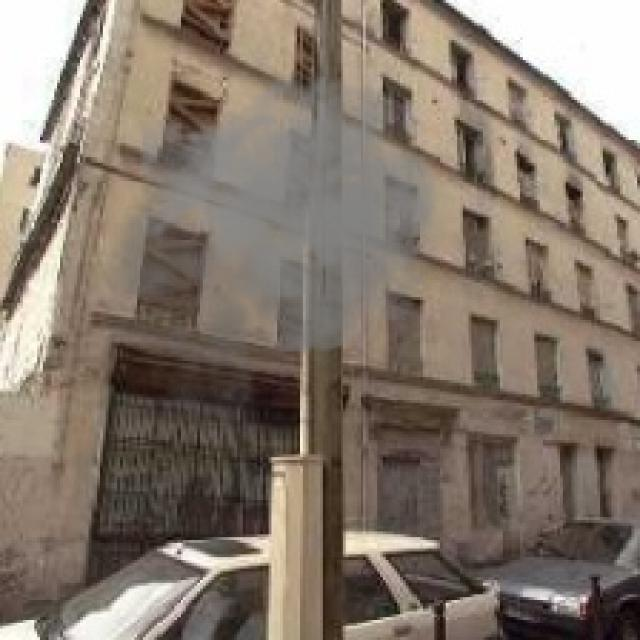Smoke: (97, 62, 463, 458)
